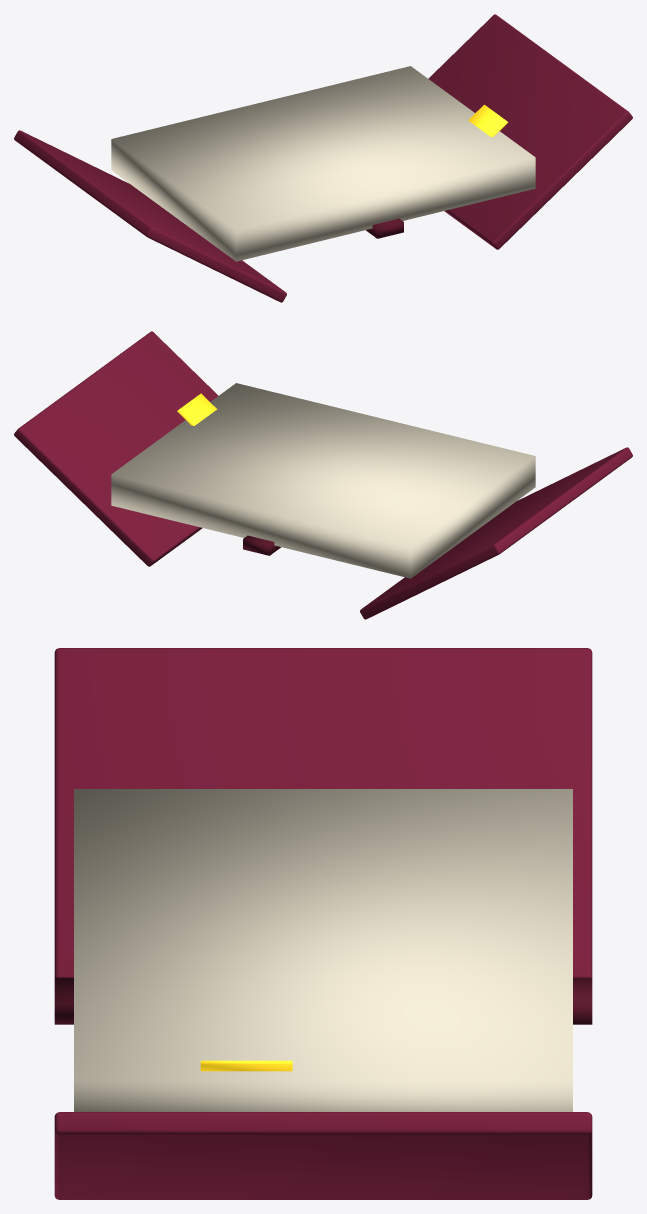
File: eecohm_book.glb
3 views of the same model, one above another, from view 1: azimuth 30°, elevation 25°; view 2: azimuth 150°, elevation 25°; view 3: azimuth 270°, elevation 25° (orthographic). The views are drawn at different scales.
Parts seen in each view (by area): view 1: Book_Pages, Book_RightCover, Book_LeftCover, Book_TitlePlate, Book_Spine; view 2: Book_Pages, Book_RightCover, Book_LeftCover, Book_TitlePlate, Book_Spine; view 3: Book_Pages, Book_LeftCover, Book_RightCover, Book_Spine, Book_TitlePlate.
Part boxes in pixels (<box>): Book_Pages: <box>111,66,535,261</box>; Book_RightCover: <box>428,14,632,249</box>; Book_LeftCover: <box>14,130,286,302</box>; Book_TitlePlate: <box>468,104,507,137</box>; Book_Spine: <box>366,218,403,238</box>; Book_Pages: <box>111,383,535,578</box>; Book_RightCover: <box>14,331,218,566</box>; Book_LeftCover: <box>360,447,632,619</box>; Book_TitlePlate: <box>177,393,217,425</box>; Book_Spine: <box>243,535,280,555</box>; Book_Pages: <box>74,789,572,1111</box>; Book_LeftCover: <box>54,648,592,977</box>; Book_RightCover: <box>54,1112,592,1199</box>; Book_Spine: <box>54,977,592,1024</box>; Book_TitlePlate: <box>200,1060,292,1071</box>.
Size of the model in its own units: 1.46 by 0.3066 by 0.7.
